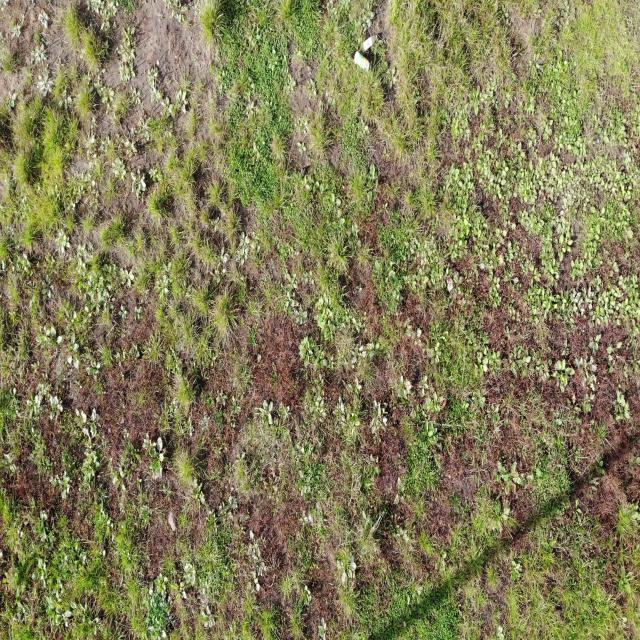rubbish: (352, 49, 370, 73), (358, 34, 377, 56)
